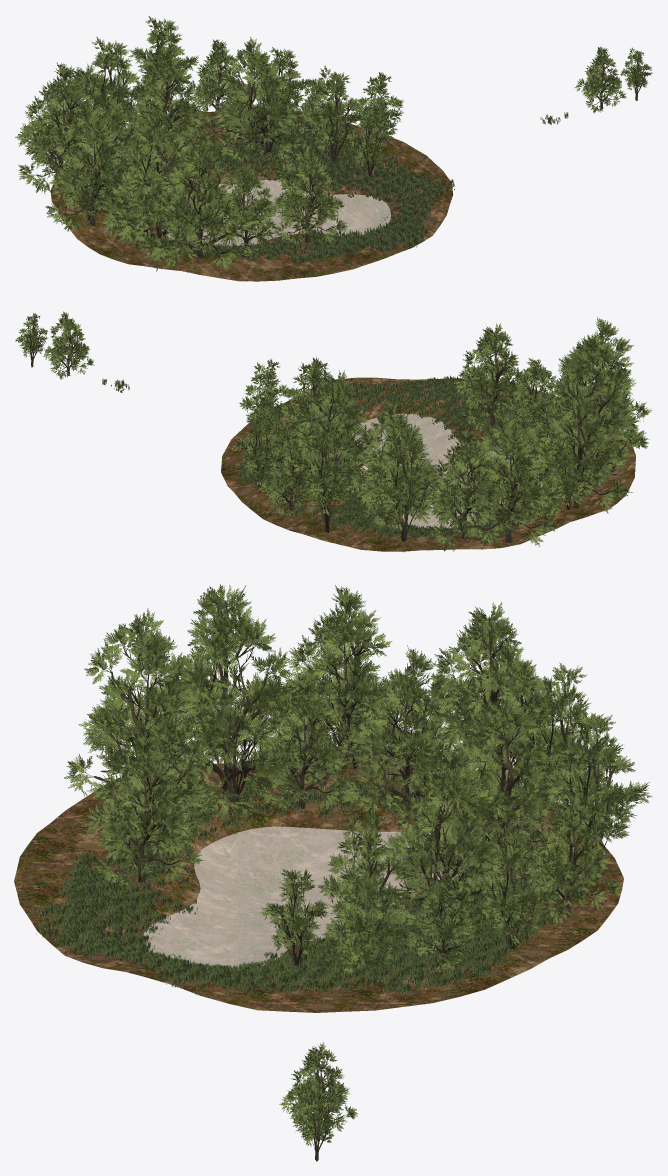
The model's file is low_poly_tree_scene_free-compressed.glb.
3 views of the same model, one above another, from view 1: azimuth 30°, elevation 25°; view 2: azimuth 150°, elevation 25°; view 3: azimuth 270°, elevation 25° (orthographic). The views are drawn at different scales.
Parts seen in each view (by area): view 1: Ground_2666, Leaves017_2700, Leaves016_2698, Leaves022_2710, Leaves020_2706, Leaves021_2708, Leaves003_2674, Leaves015_2696, Water_2667, Leaves011_2690, Leaves014_2694, Leaves009_2686 (+20 smaller); view 2: Ground_2666, Leaves020_2706, Leaves021_2708, Leaves016_2698, Leaves018_2702, Leaves015_2696, Leaves009_2686, Leaves022_2710, Leaves003_2674, Leaves008_2684, Leaves017_2700, Leaves002_2672 (+19 smaller); view 3: Ground_2666, Water_2667, Leaves016_2698, Leaves017_2700, Leaves022_2710, Leaves004_2676, Leaves003_2674, Leaves015_2696, Leaves020_2706, Leaves005_2678, Leaves021_2708, Leaves008_2684 (+22 smaller).
Part boxes in pixels (<box>): Ground_2666: <box>50,110,453,281</box>; Leaves017_2700: <box>148,139,256,270</box>; Leaves016_2698: <box>99,111,209,271</box>; Leaves022_2710: <box>212,37,306,163</box>; Leaves020_2706: <box>45,103,137,231</box>; Leaves021_2708: <box>15,62,94,194</box>; Leaves003_2674: <box>120,43,212,170</box>; Leaves015_2696: <box>272,141,348,247</box>; Water_2667: <box>149,174,390,246</box>; Leaves011_2690: <box>301,65,365,151</box>; Leaves014_2694: <box>211,163,277,256</box>; Leaves009_2686: <box>80,37,149,125</box>; Ground_2666: <box>221,377,635,551</box>; Leaves020_2706: <box>530,386,632,515</box>; Leaves021_2708: <box>460,413,560,546</box>; Leaves016_2698: <box>525,331,649,494</box>; Leaves018_2702: <box>420,426,514,551</box>; Leaves015_2696: <box>454,323,534,430</box>; Leaves009_2686: <box>365,423,445,531</box>; Leaves022_2710: <box>291,370,383,490</box>; Leaves003_2674: <box>347,399,441,532</box>; Leaves008_2684: <box>292,418,366,515</box>; Leaves017_2700: <box>550,317,651,454</box>; Leaves002_2672: <box>258,430,321,519</box>; Ground_2666: <box>14,752,623,1012</box>; Water_2667: <box>143,826,473,967</box>; Leaves016_2698: <box>132,584,307,826</box>; Leaves017_2700: <box>64,608,226,812</box>; Leaves022_2710: <box>378,743,516,933</box>; Leaves004_2676: <box>339,645,472,817</box>; Leaves003_2674: <box>431,691,578,878</box>; Leaves015_2696: <box>80,731,205,892</box>; Leaves020_2706: <box>279,585,409,780</box>; Leaves005_2678: <box>257,675,353,814</box>; Leaves021_2708: <box>420,602,557,780</box>; Leaves008_2684: <box>545,713,652,853</box>.
Size of the model in its own units: 87.96 by 22.91 by 54.27.
Materials: 5 (4 with a texture image).
